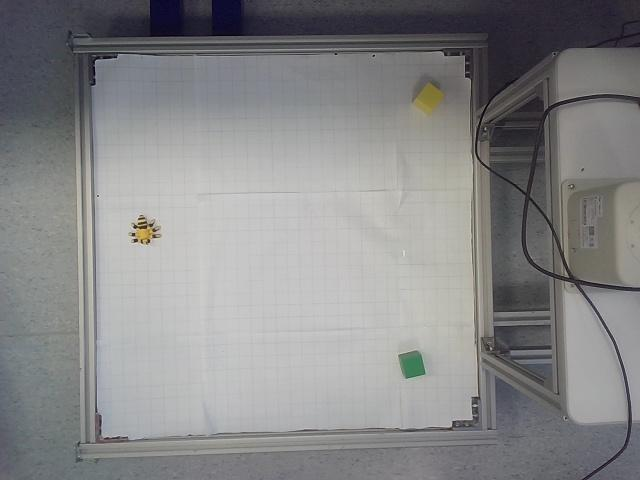frelon: (128, 215, 162, 245)
